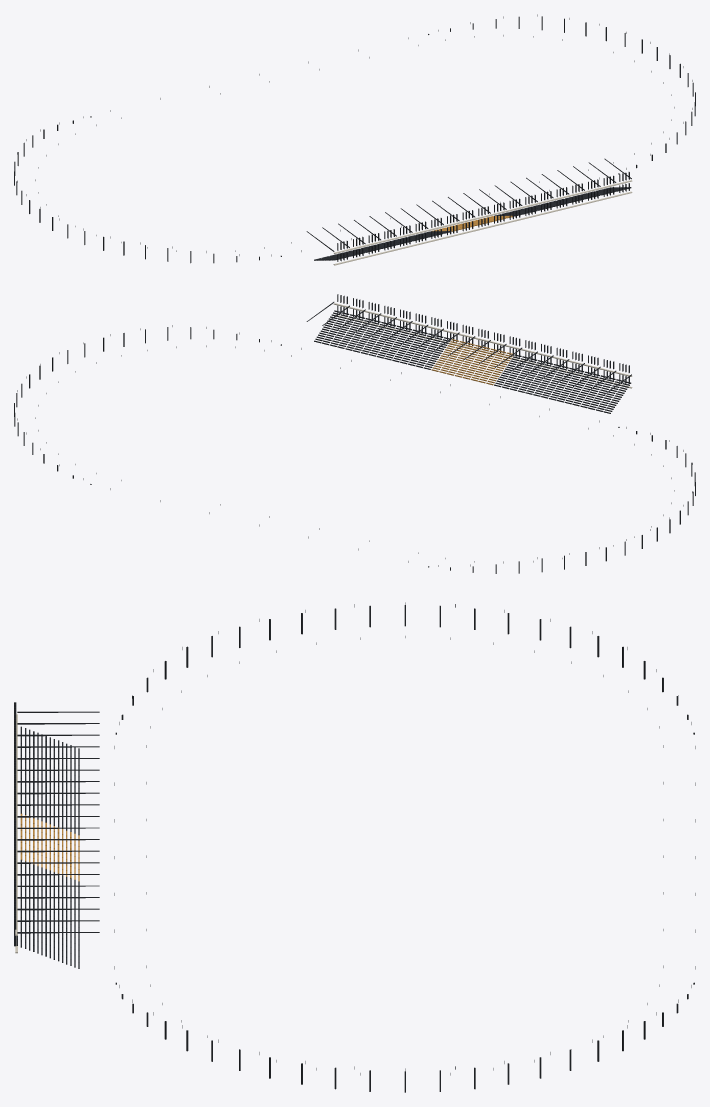
The model's file is dog-derby-detail.glb.
3 renders of one model, top to bottom at view 1: azimuth 30°, elevation 25°; view 2: azimuth 150°, elevation 25°; view 3: azimuth 270°, elevation 25°, orthographic. The views are drawn at different scales.
Parts seen in each view (by area): view 1: DERBY_DETAIL; view 2: DERBY_DETAIL; view 3: DERBY_DETAIL.
Part boxes in pixels (<box>): DERBY_DETAIL: <box>14,14,695,265</box>; DERBY_DETAIL: <box>14,294,695,573</box>; DERBY_DETAIL: <box>14,602,695,1092</box>.
Bounding box in the file's own units: 403 × 19.71 × 248.
